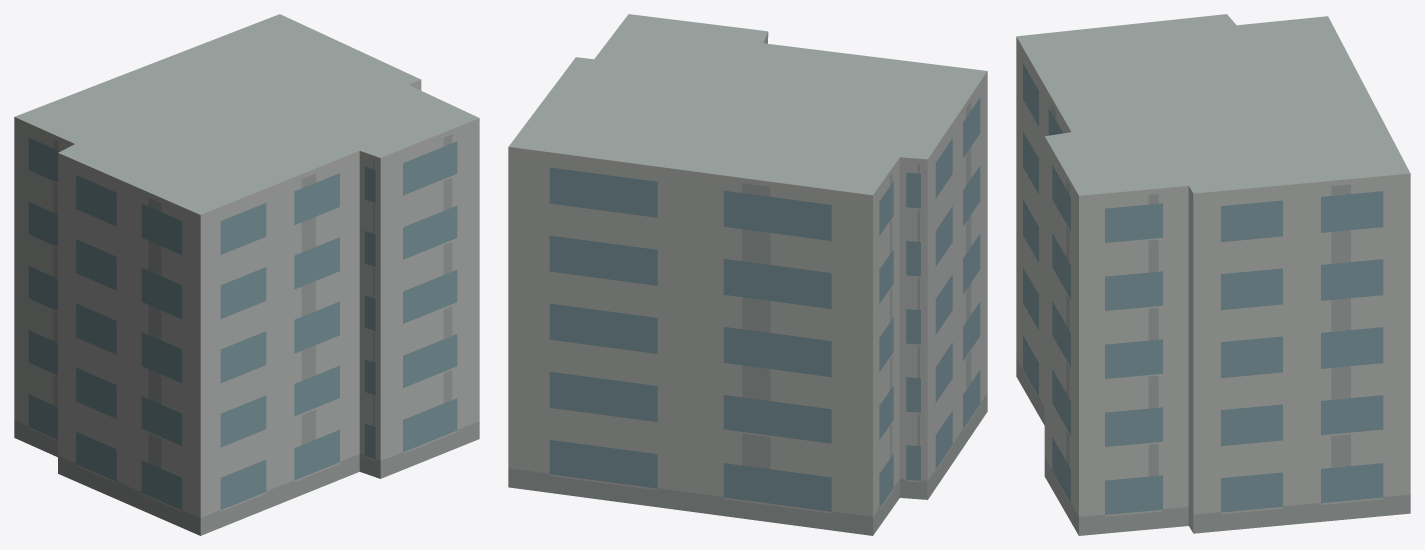
The model's file is survey-upis-32982805.glb.
The picture shows the model from 3 angles, left to right: view 1: azimuth 30°, elevation 25°; view 2: azimuth 150°, elevation 25°; view 3: azimuth 270°, elevation 25°; orthographic projection. The views are drawn at different scales.
Parts seen in each view (by area): view 1: survey-upis-32982805.tmp; view 2: survey-upis-32982805.tmp; view 3: survey-upis-32982805.tmp.
Boxes of the visible parts, x1,y1,x2,y2 form: survey-upis-32982805.tmp: [14, 14, 479, 535]; survey-upis-32982805.tmp: [508, 14, 987, 535]; survey-upis-32982805.tmp: [1016, 14, 1410, 535].
Bounding box in the file's own units: 17.6 × 15.33 × 16.12.
